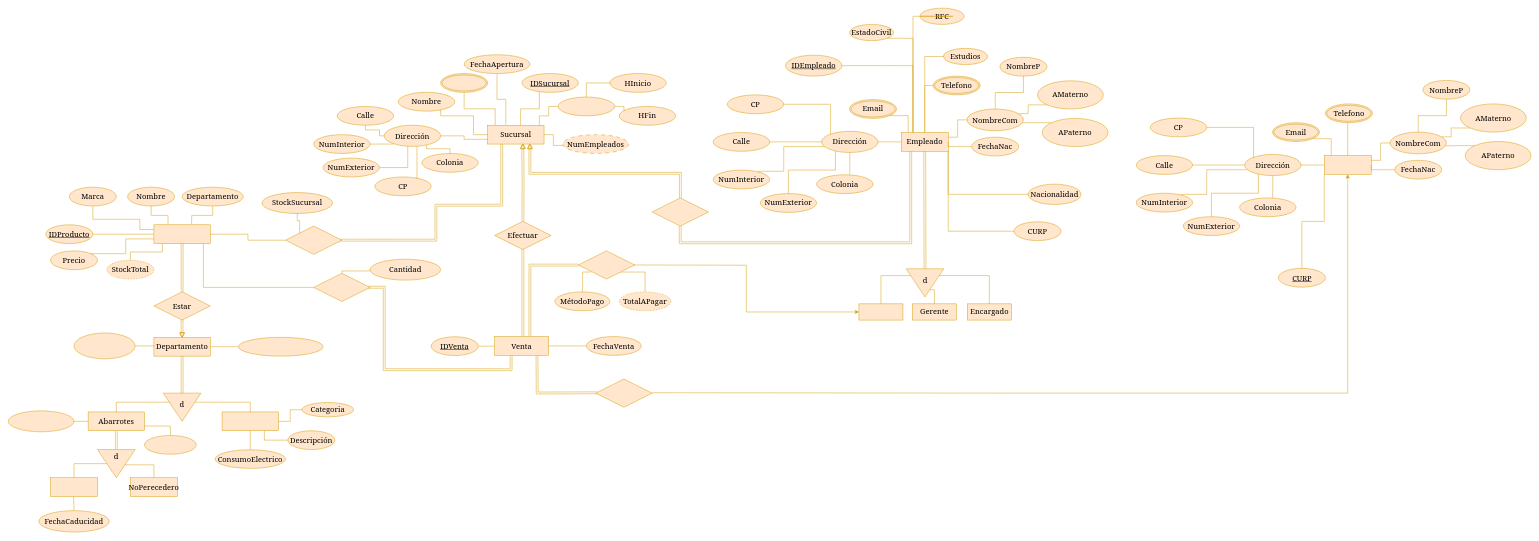
The diagram is 1539 pixels wide and 541 high, and some of its shapes have lost their labels. Each missing label, with the box of its shape:
Cajero: (858, 303, 903, 320)
Cliente: (1324, 155, 1371, 174)
Cobrar: (578, 250, 635, 279)
Comprar: (595, 379, 652, 407)
Desglosar: (313, 273, 370, 302)
ElecCons: (222, 411, 278, 431)
FechaAlmacenado: (238, 337, 323, 356)
FechaPreparación: (8, 410, 74, 432)
Horario: (558, 97, 615, 116)
IDAlmacen: (74, 333, 135, 359)
Perecedero: (50, 477, 98, 497)
Presentación: (144, 435, 196, 454)
Producto: (153, 224, 210, 244)
Teléfono: (440, 73, 488, 92)
Tener: (285, 226, 342, 254)
Trabajar: (652, 197, 709, 226)
